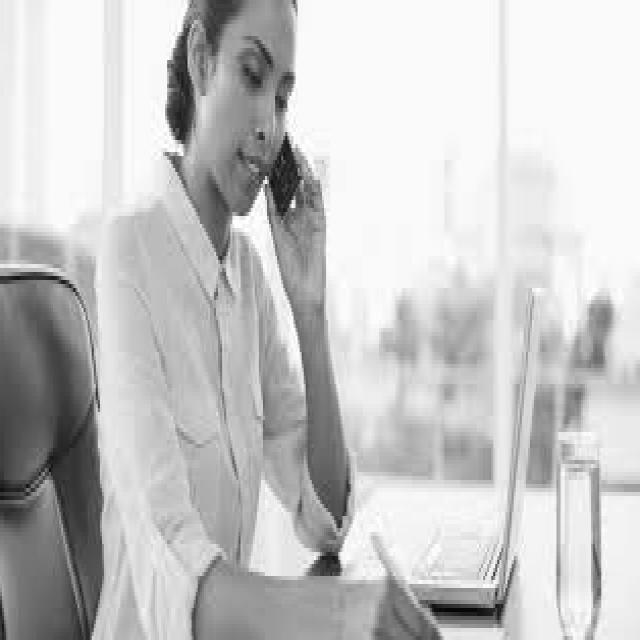phone: (257, 60, 328, 292)
